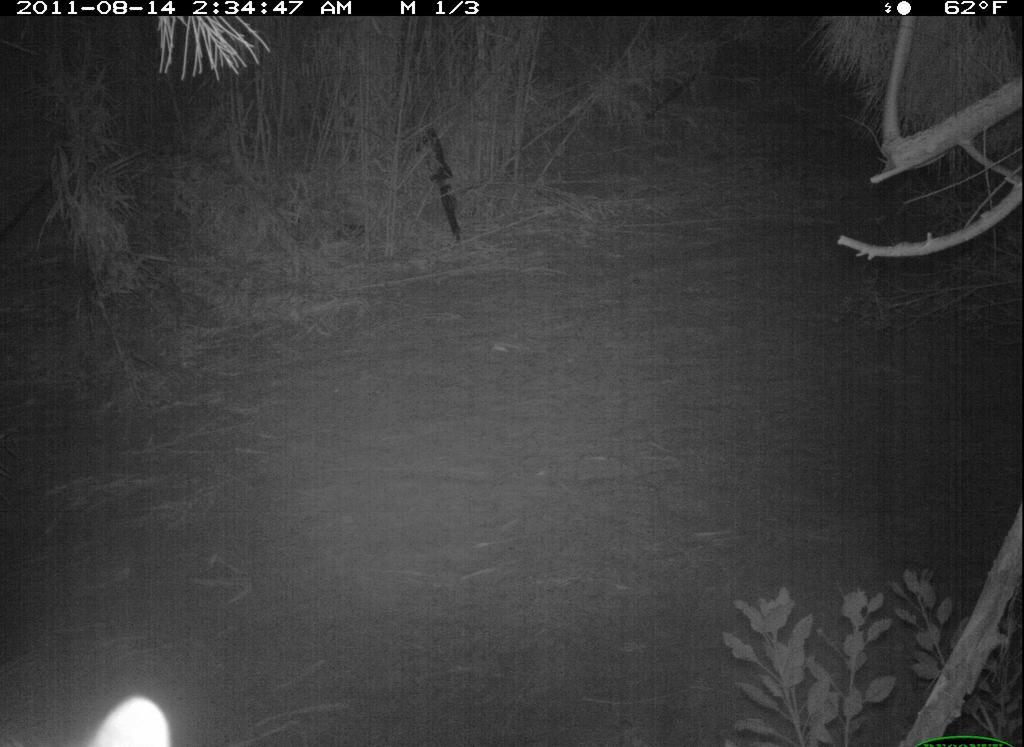raccoon: (85, 695, 188, 747)
